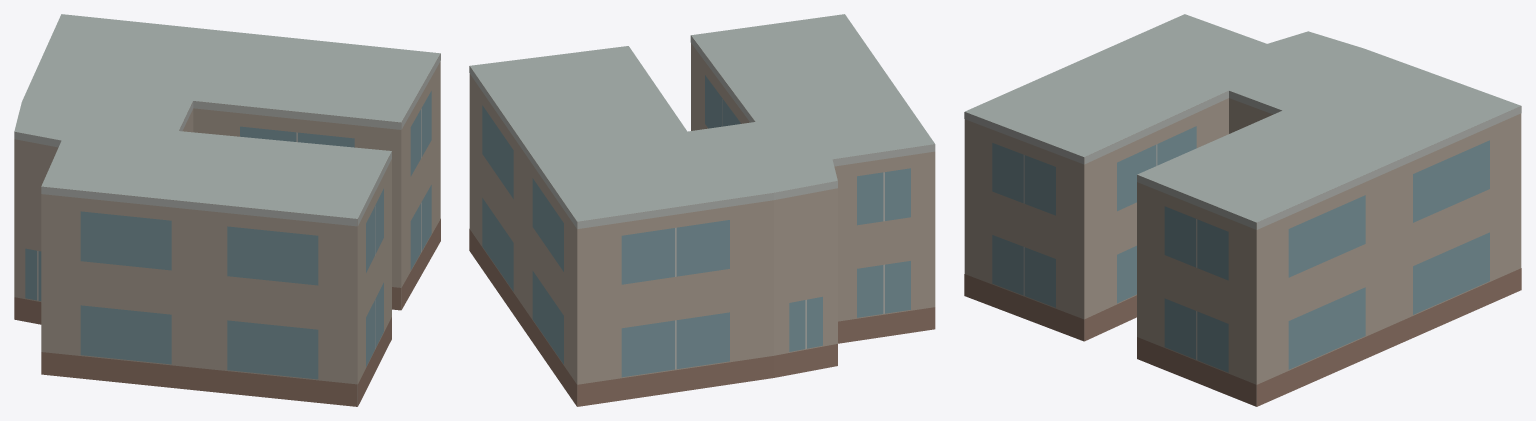
The model's file is survey-upis-32749978.glb.
3 renders of one model, left to right at view 1: azimuth 30°, elevation 25°; view 2: azimuth 150°, elevation 25°; view 3: azimuth 270°, elevation 25°, orthographic.
Visible parts, largest first — view 1: survey-upis-32749978.tmp; view 2: survey-upis-32749978.tmp; view 3: survey-upis-32749978.tmp.
Boxes of the visible parts, left/top/right/bottom form: survey-upis-32749978.tmp: left=14, top=14, right=440, bottom=406; survey-upis-32749978.tmp: left=469, top=14, right=935, bottom=406; survey-upis-32749978.tmp: left=964, top=14, right=1521, bottom=406.
Size of the model in its own units: 14.82 by 6.1 by 16.72.
